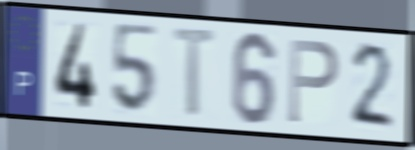2: (347, 39, 397, 136)
4: (51, 19, 99, 113)
5: (109, 20, 161, 118)
6: (229, 29, 279, 128)
P: (285, 36, 341, 128)
T: (169, 23, 222, 122)
